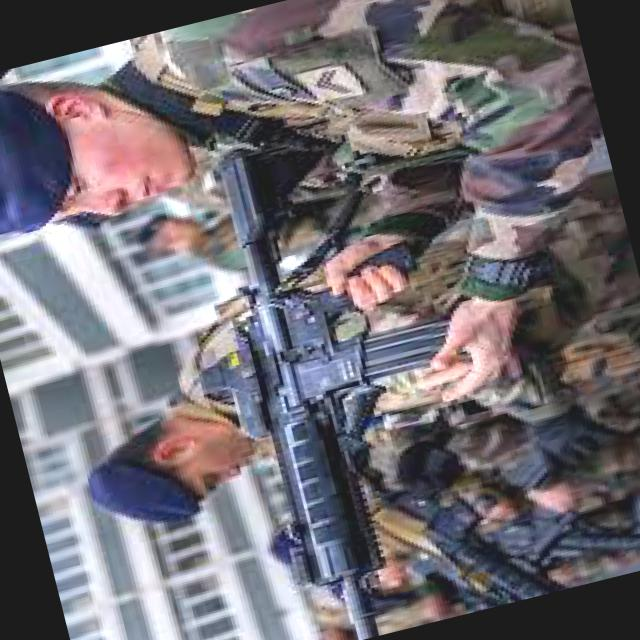long weapon: (172, 95, 530, 639)
